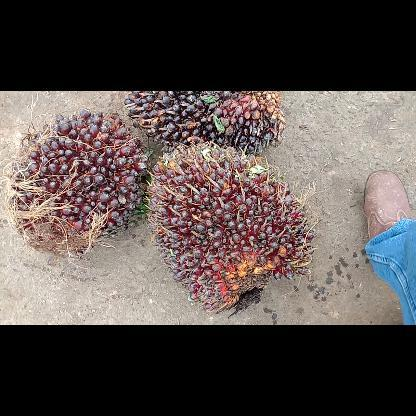Kurang masak: (152, 146, 314, 310), (11, 108, 144, 254)
TBS mentah: (126, 90, 282, 154)
